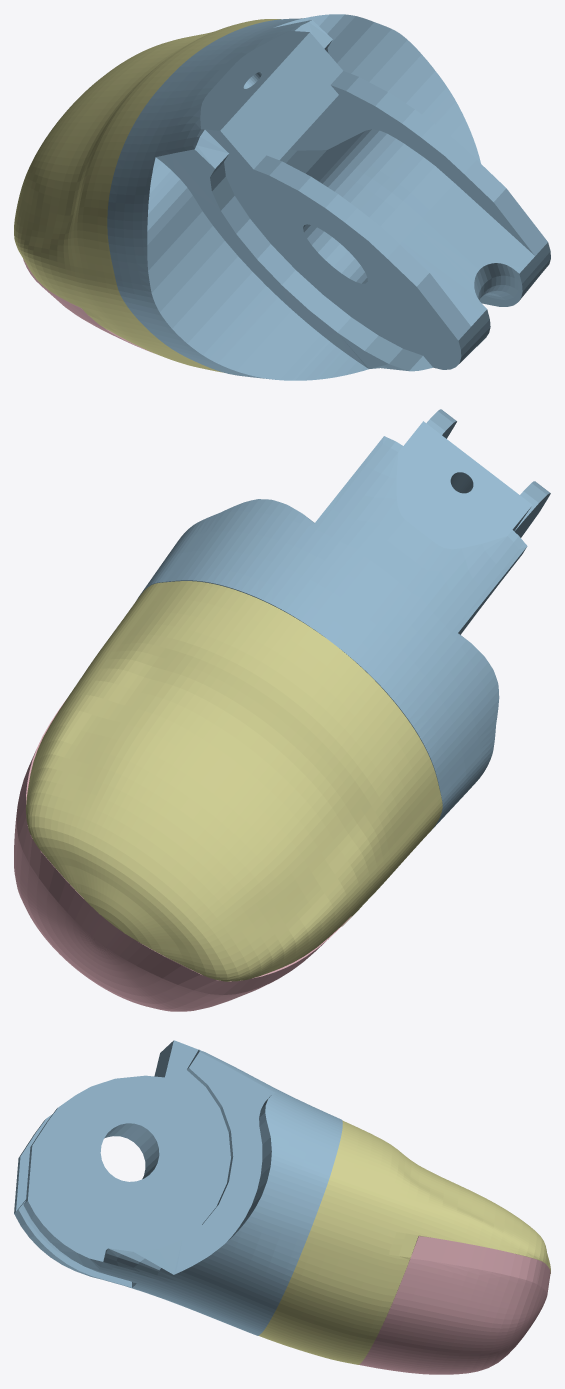
The model's file is i02_rightHand_ringFingerTip_visual.obj.
3 views of the same model, one above another, from view 1: azimuth 30°, elevation 25°; view 2: azimuth 150°, elevation 25°; view 3: azimuth 270°, elevation 25° (orthographic). The views are drawn at different scales.
Parts seen in each view (by area): view 1: i02_rightHand_ringFingerTip_visual.001; view 2: i02_rightHand_ringFingerTip_visual.001; view 3: i02_rightHand_ringFingerTip_visual.001.
Part boxes in pixels (x1,y1,x2,y2): i02_rightHand_ringFingerTip_visual.001: (14, 14, 550, 380); i02_rightHand_ringFingerTip_visual.001: (14, 409, 550, 1011); i02_rightHand_ringFingerTip_visual.001: (14, 1040, 550, 1374).
Bounding box in the file's own units: 0.1603 × 0.2072 × 0.326.
